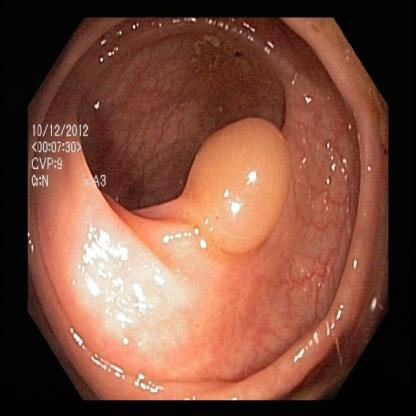Labels: (27, 109, 119, 203)
Polyps: (176, 122, 296, 254)
